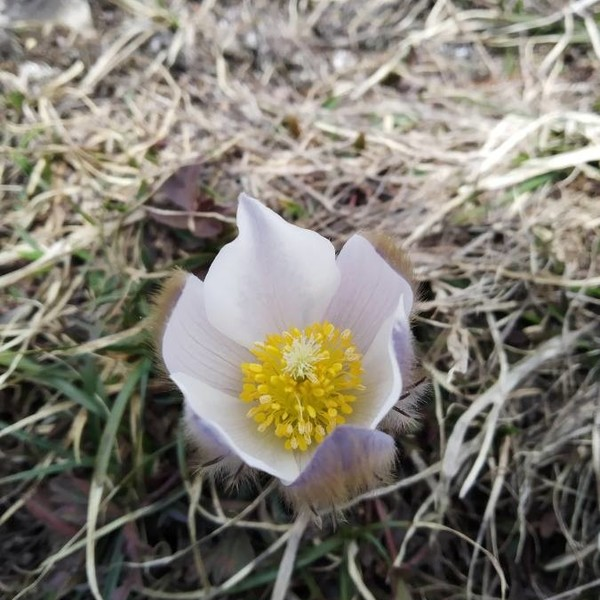obstacle: (159, 192, 407, 487)
